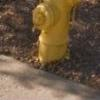Hydrant: (25, 0, 78, 71)
